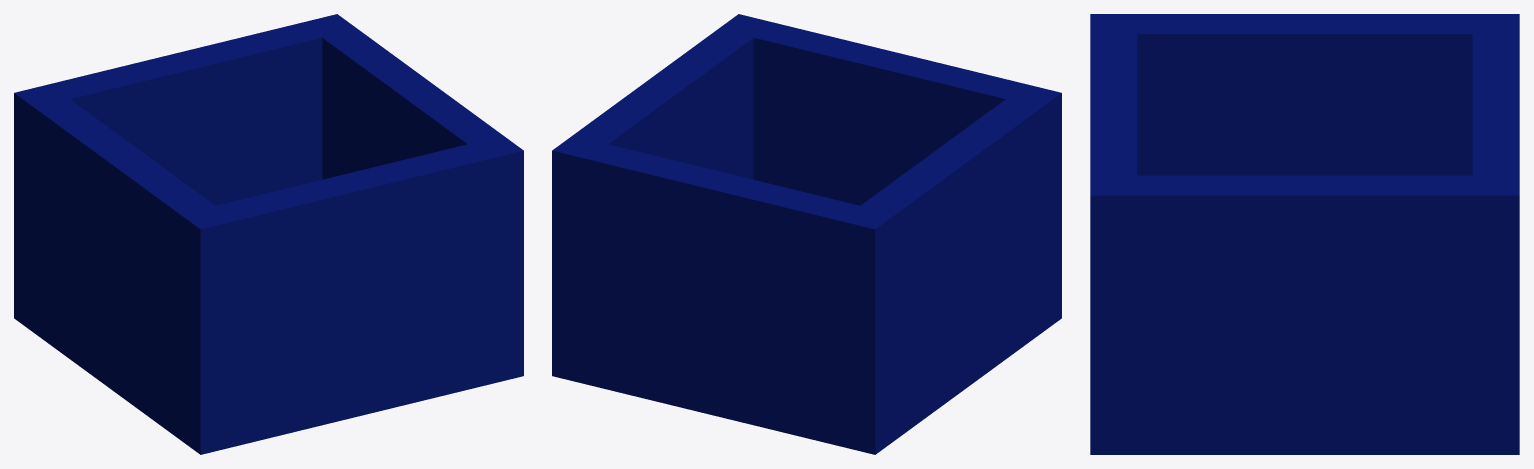
Rendered from blueBox.fbx.
3 views of the same model, side by side, from view 1: azimuth 30°, elevation 25°; view 2: azimuth 150°, elevation 25°; view 3: azimuth 270°, elevation 25° (orthographic). The views are drawn at different scales.
Parts seen in each view (by area): view 1: redCube; view 2: redCube; view 3: redCube.
Boxes of the visible parts, x1,y1,x2,y2 form: redCube: (14,14,523,454); redCube: (552,14,1061,454); redCube: (1090,14,1519,454).
Size of the model in its own units: 60 by 40 by 60.
